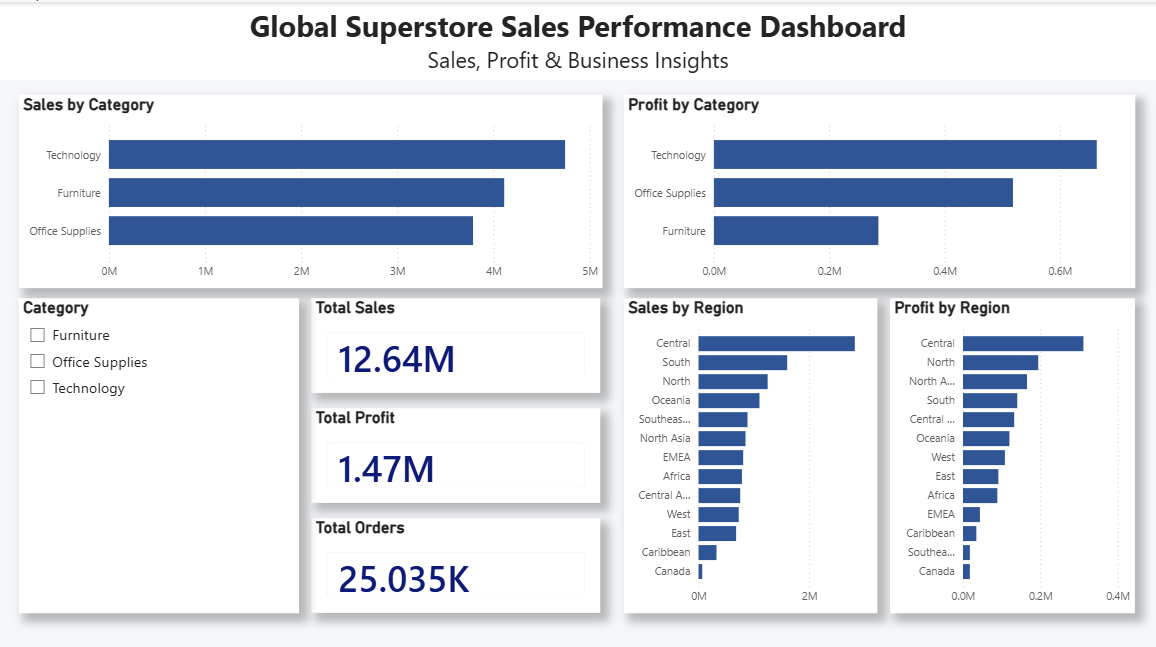

This screenshot's page, from the dashboard's own definition file:
{"tool":"powerbi","page":{"name":"Page 1","canvas":[1280,720],"ordinal":0},"visuals":[{"type":"textbox","box":[0,0,1280.3,86.4],"z":0},{"type":"clusteredBarChart","title":"Sales by Category","fields":{"Category":["ECOMM_DATA_CLEANED.Category"],"Y":["Sum(ECOMM_DATA_CLEANED.Sales)"]},"box":[20.8,102.4,646.4,214.5],"z":1000},{"type":"clusteredBarChart","title":" Profit by Category","fields":{"Category":["ECOMM_DATA_CLEANED.Category"],"Y":["Sum(ECOMM_DATA_CLEANED.Profit)"]},"box":[690.7,102.4,566.1,214.5],"z":2000},{"type":"cardVisual","title":"Total Sales","fields":{"Data":["Sum(ECOMM_DATA_CLEANED.Sales)"]},"box":[344.6,328,320,105],"z":3000},{"type":"cardVisual","title":"Total Profit","fields":{"Data":["Sum(ECOMM_DATA_CLEANED.Profit)"]},"box":[344.6,449.8,320,105],"z":4000},{"type":"cardVisual","title":"Total Orders","fields":{"Data":["Count(ECOMM_DATA_CLEANED.Order ID)"]},"box":[344.6,571.6,320,105],"z":5000},{"type":"clusteredBarChart","title":"Sales by Region","fields":{"Y":["Sum(ECOMM_DATA_CLEANED.Sales)"],"Category":["ECOMM_DATA_CLEANED.Region"]},"box":[690.7,328,281,348.8],"z":7000},{"type":"clusteredBarChart","title":" Profit by Region","fields":{"Category":["ECOMM_DATA_CLEANED.Region"],"Y":["Sum(ECOMM_DATA_CLEANED.Profit)"]},"box":[985.5,328,271.3,348.8],"z":8000},{"type":"slicer","title":"Category","fields":{"Values":["ECOMM_DATA_CLEANED.Category"]},"box":[20.8,328,310,348.8],"z":9000}]}

Visuals, with their boxes in screenshot pixels (x1, y1, x2, y2), scaled from the page's 1280x720 canvas onto the 1156x647 screenshot:
textbox: (left=0, top=0, right=1155, bottom=78)
"Sales by Category" clusteredBarChart: (left=19, top=92, right=603, bottom=285)
" Profit by Category" clusteredBarChart: (left=624, top=92, right=1135, bottom=285)
"Total Sales" cardVisual: (left=311, top=295, right=600, bottom=389)
"Total Profit" cardVisual: (left=311, top=404, right=600, bottom=499)
"Total Orders" cardVisual: (left=311, top=514, right=600, bottom=608)
"Sales by Region" clusteredBarChart: (left=624, top=295, right=878, bottom=608)
" Profit by Region" clusteredBarChart: (left=890, top=295, right=1135, bottom=608)
"Category" slicer: (left=19, top=295, right=299, bottom=608)
